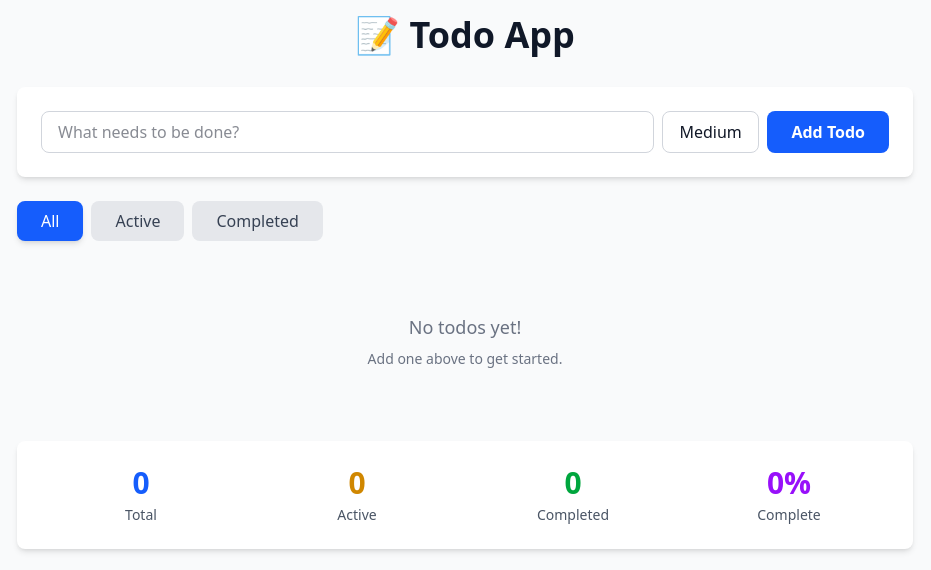
Test case: Todo App - Integration Tests › Complete Todo Workflow › user can add, edit, toggle, and delete a todo
Type "Buy groceries" into the field at (348, 132), box [58,120,638,144]
Click the button "Add Todo" at (828, 132), box [768,111,889,153]
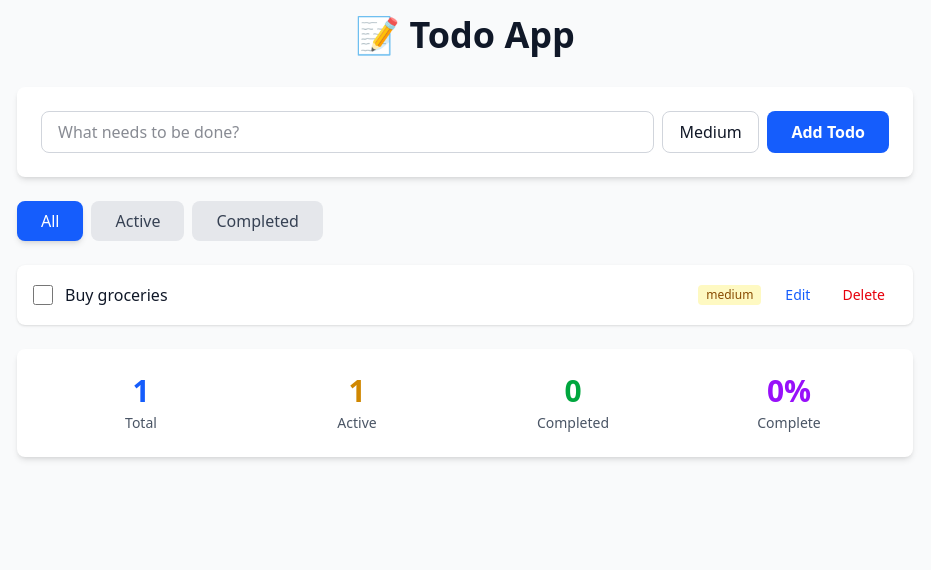
Expected: the text "Buy groceries" is shown, [65,284,168,306]
Click the button with test id "edit-button" at (798, 295), box [773,281,822,309]
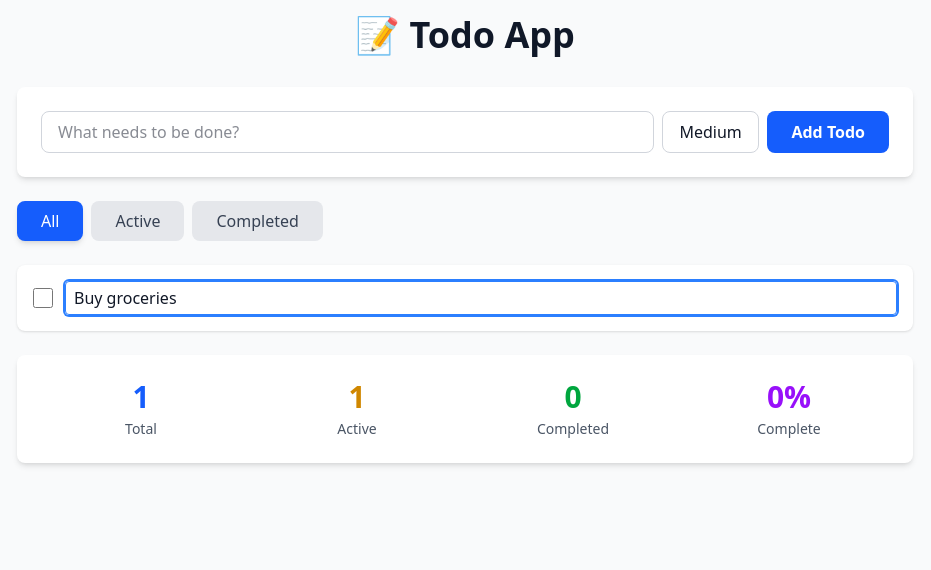
Replace the text in the field with test id "todo-edit-input" with "Buy groceries and milk" at (481, 298), box [65,281,897,315]
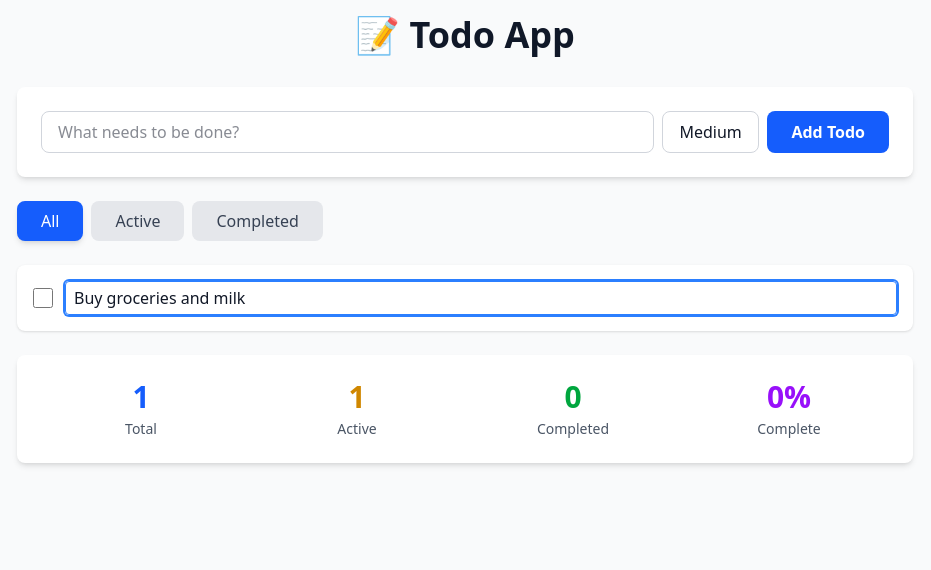
Leave the field with test id "todo-edit-input", box [65,281,897,315]
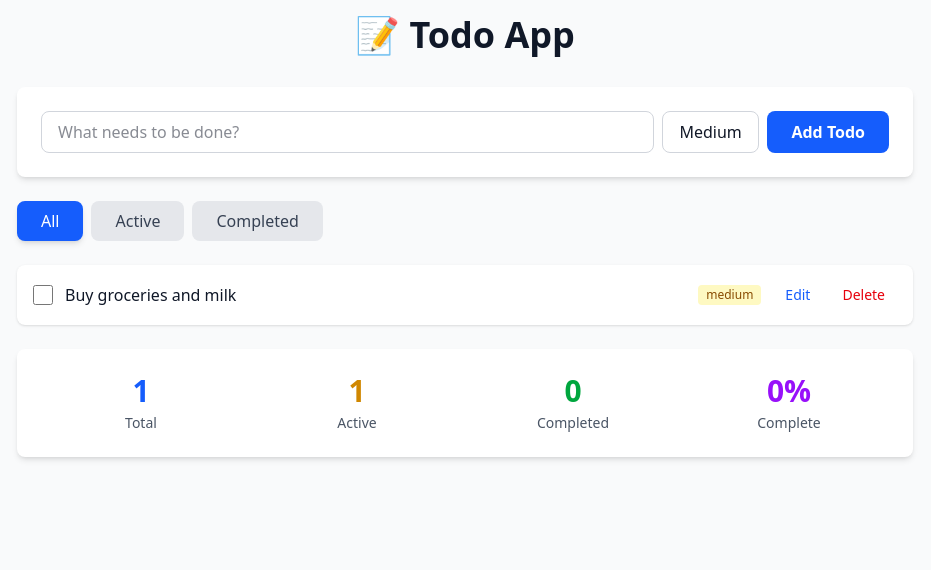
Expected: the text "Buy groceries and milk" is shown, [65,284,236,306]
Toggle completion
Click the checkbox with test id "todo-checkbox" at (43, 295), box [33,285,53,305]
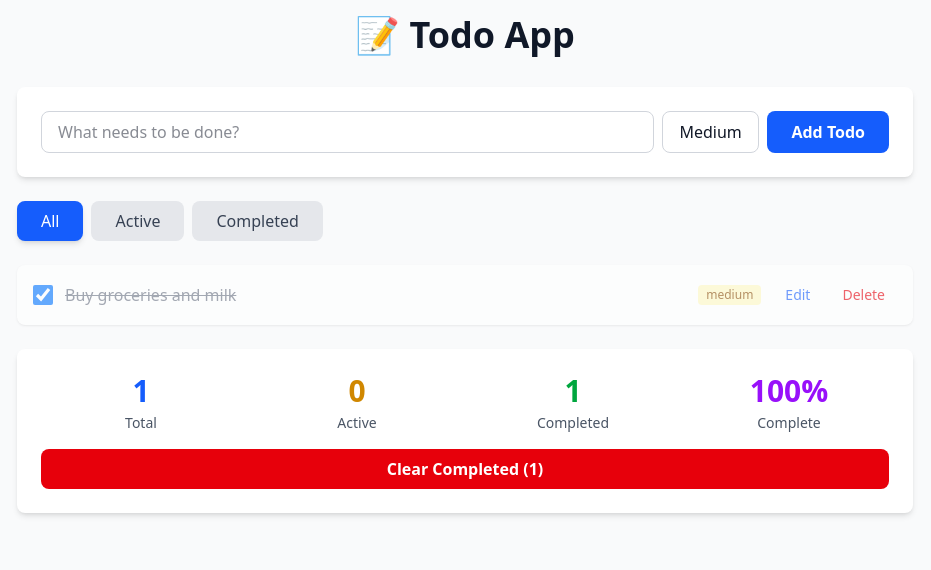
Expected: the text with test id "todo-text" has class "line-through", [65,284,236,306]
Click the button with test id "delete-button" at (864, 295), box [830,281,897,309]
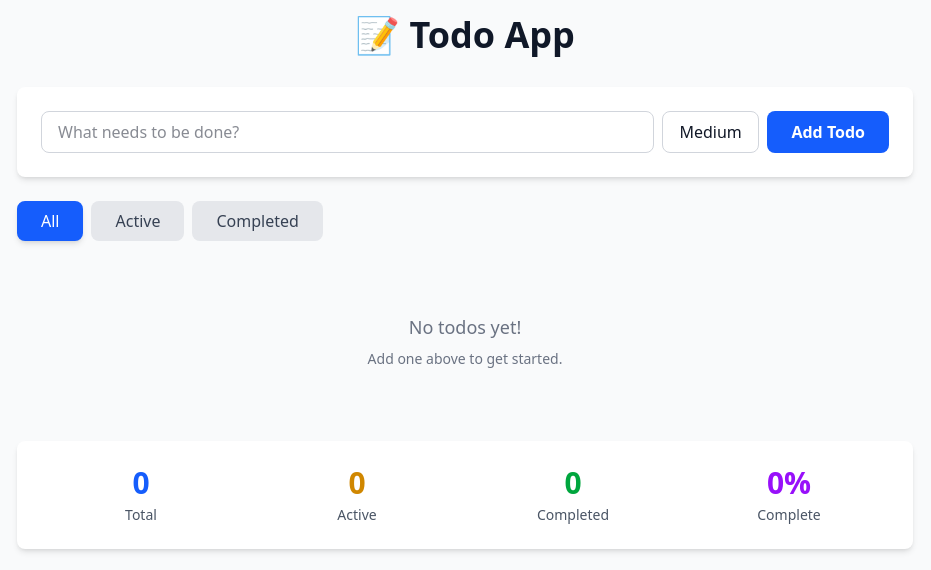
Expected: the text "Buy groceries and milk" is gone
